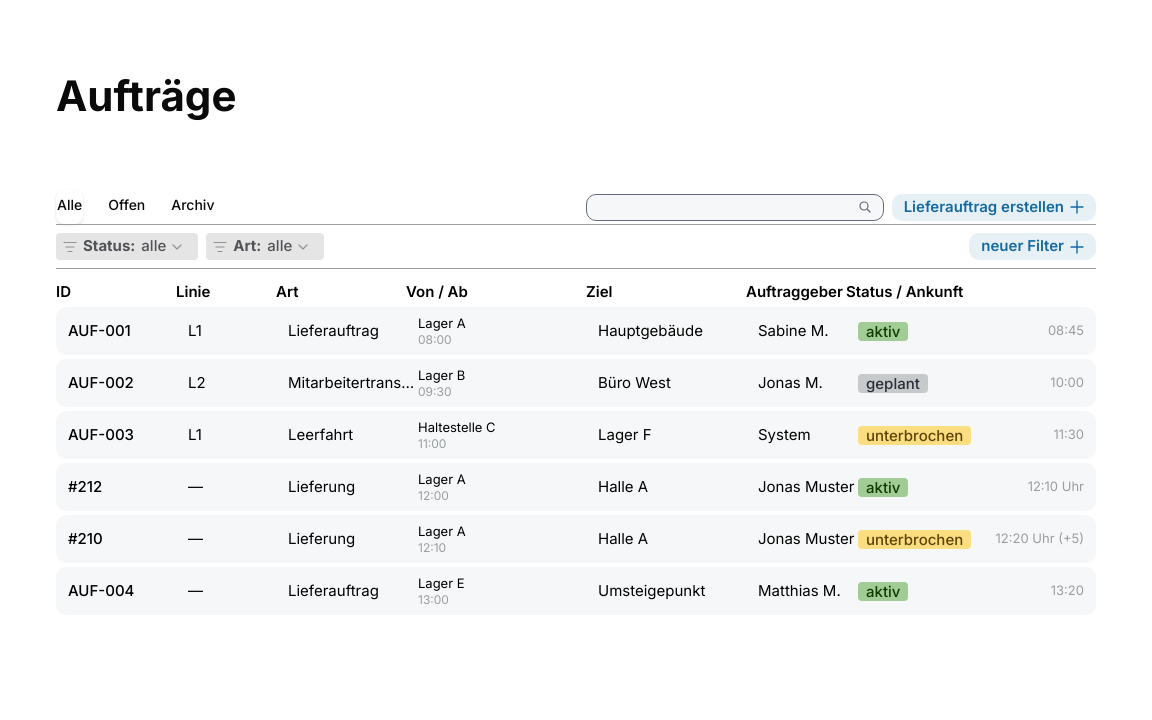
Scenario: SC-04 — AuftraegePage — CR-01: Lieferauftrag erstellen Dialog › Klick auf 'Lieferauftrag erstellen' öffnet Dialog (Titel sichtbar)
Step 1. Click the button "Lieferauftrag erstellen" → (994,207), box [892, 194, 1096, 220]
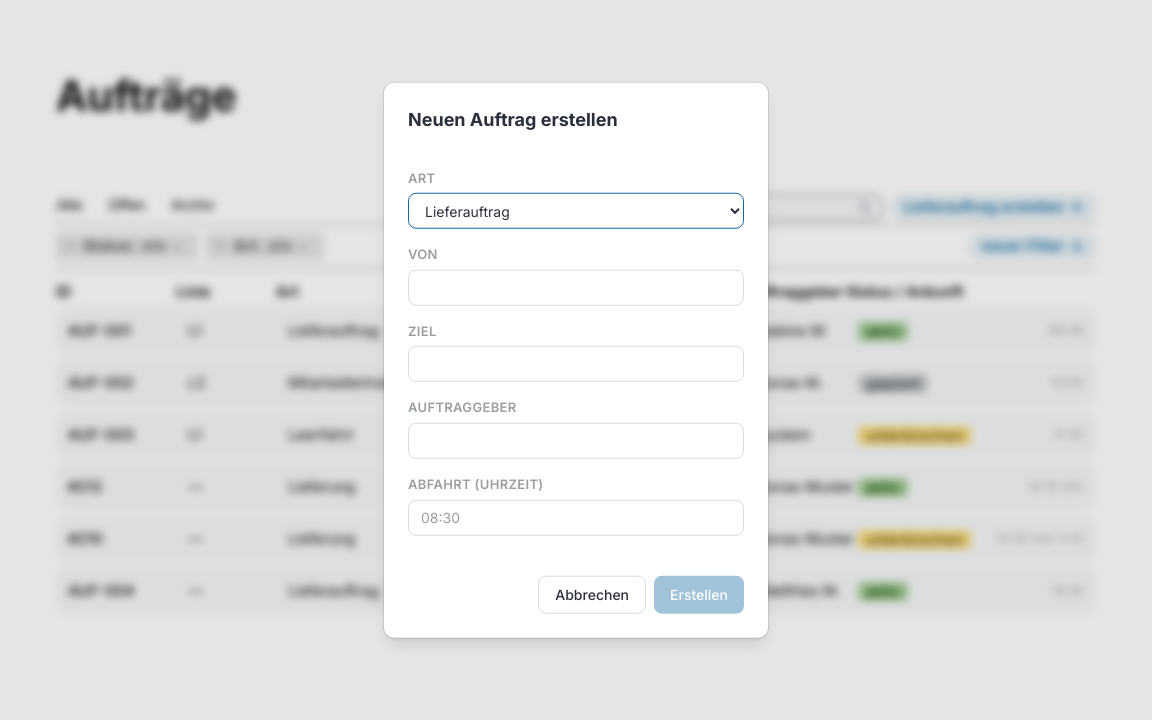
Result: the heading "Neuen Auftrag erstellen" is shown at [408, 109, 618, 130]
